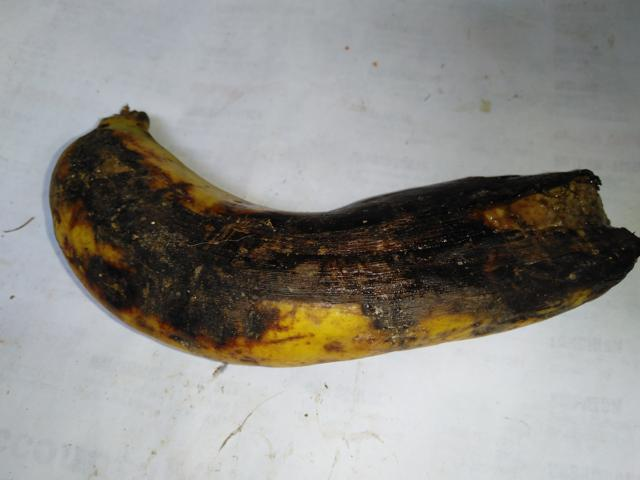rotten: (40, 115, 639, 380)
